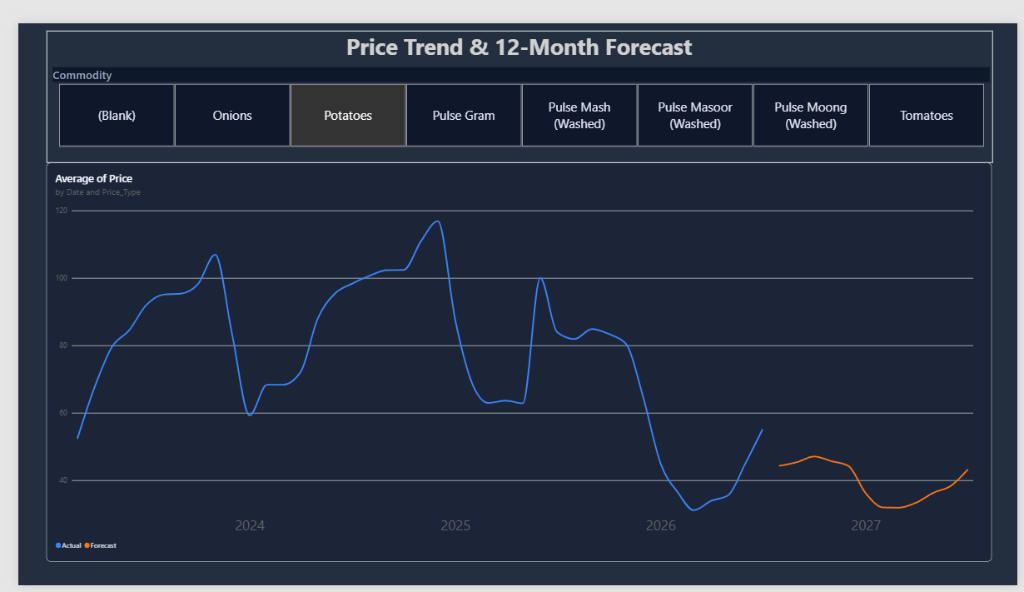

The page's visual inventory and layout, read from the dashboard file:
{"tool":"powerbi","page":{"name":"Price trend and forecast","canvas":[1920,1080],"ordinal":1},"visuals":[{"type":"textbox","box":[54.3,14.5,1816.9,253.4],"z":0},{"type":"slicer","fields":{"Values":["pbi_commodity_metadata.Commodity"]},"box":[57.2,83.6,1816.9,153.8],"z":4000},{"type":"lineChart","fields":{"Category":["pbi_combined_timeline.Date"],"Series":["pbi_combined_timeline.Price_Type"],"Y":["Avg(pbi_combined_timeline.Price)"]},"box":[54.8,268.1,1816.5,766.6],"z":6000}]}

Visuals, with their boxes in screenshot pixels (x1, y1, x2, y2), scaled from the page's 1920x1080 canvas onto the 1024x592 screenshot:
textbox: (29, 8, 998, 147)
slicer - pbi_commodity_metadata.Commodity: (31, 46, 1000, 130)
lineChart - pbi_combined_timeline.Date x pbi_combined_timeline.Price_Type: (29, 147, 998, 567)
